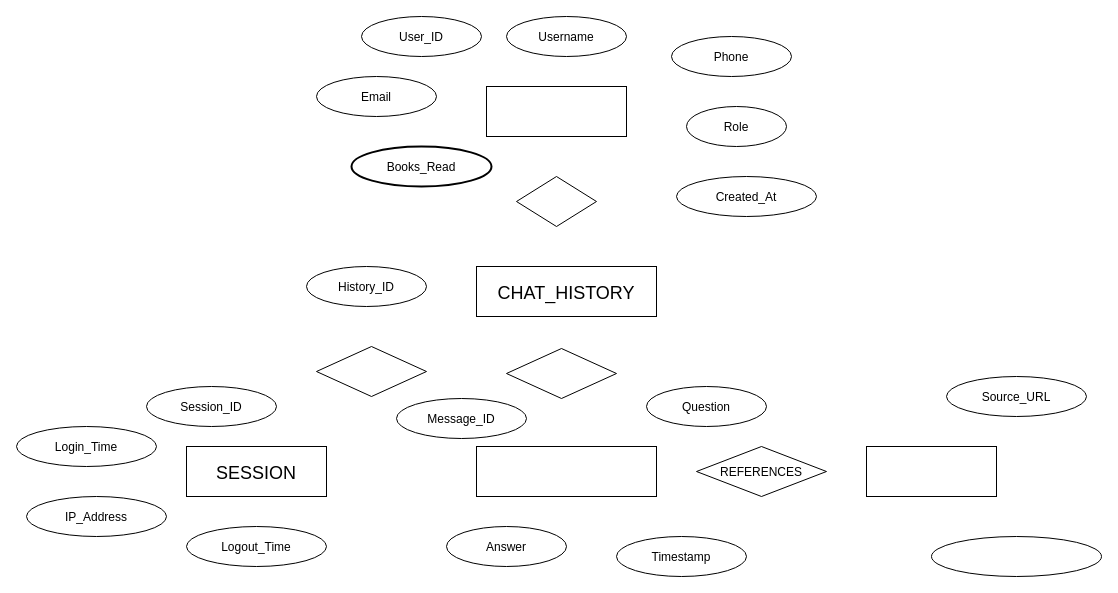
This 1118x593 diagram has some shape labels left out. The box of each missing label's shape, as (x1, y1, x2, y2) in pixels:
CHAT_MESSAGE: (476, 446, 656, 496)
CONTAINS: (506, 348, 616, 398)
Content_Preview: (930, 536, 1102, 576)
CREATES: (316, 346, 426, 396)
HAS: (516, 176, 596, 226)
SOURCE: (866, 446, 996, 496)
USER: (486, 86, 626, 136)
